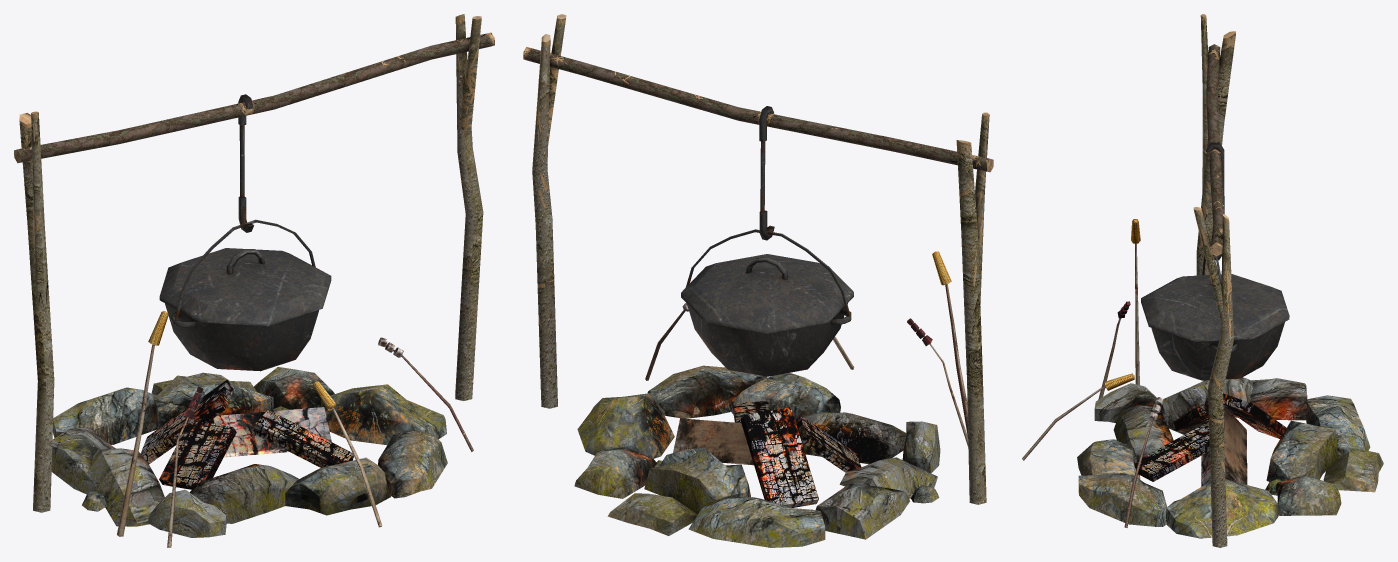
3 views of the same model, side by side, from view 1: azimuth 30°, elevation 25°; view 2: azimuth 150°, elevation 25°; view 3: azimuth 270°, elevation 25° (orthographic). The views are drawn at different scales.
Parts seen in each view (by area): view 1: Campfire; view 2: Campfire; view 3: Campfire.
Part boxes in pixels (x1,y1,x2,y2): Campfire: (14, 14, 494, 547); Campfire: (523, 14, 993, 547); Campfire: (1022, 14, 1383, 547).
Bounding box in the file's own units: 1.52 × 1.31 × 1.16.
Materials: 1 (1 with a texture image).
